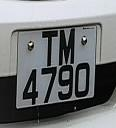0: (73, 61, 93, 99)
4: (20, 67, 42, 108)
7: (39, 65, 59, 107)
9: (56, 63, 75, 103)
M: (58, 27, 78, 66)
T: (37, 30, 61, 69)
